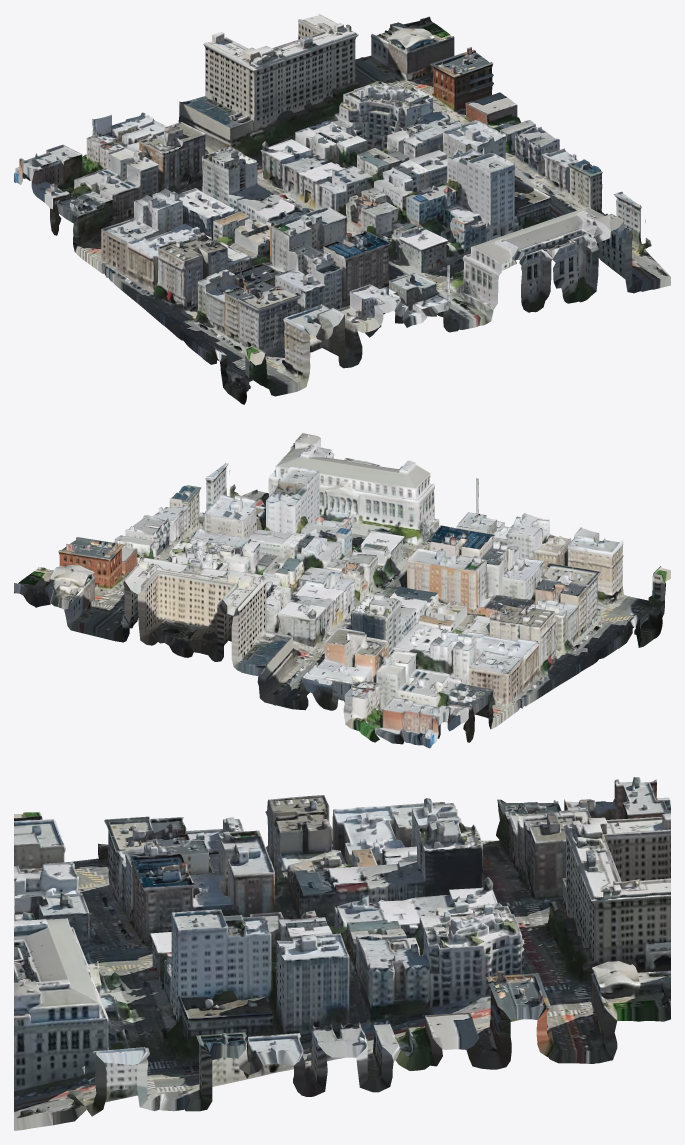
File: z17-20968-50654-h0-yup-uvflip-v3-world.glb
The picture shows the model from 3 angles, top to bottom: view 1: azimuth 30°, elevation 25°; view 2: azimuth 150°, elevation 25°; view 3: azimuth 270°, elevation 25°; orthographic projection. The views are drawn at different scales.
Bounding box in the file's own units: 241 × 87.04 × 243.
1 material, 1 textured.
